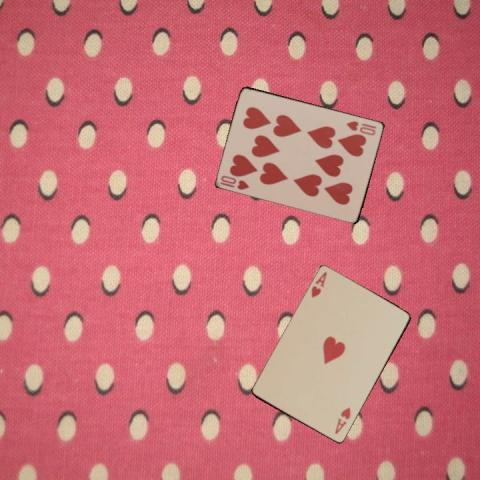10h: (343, 118, 378, 137), (217, 172, 251, 191)
Ah: (308, 269, 329, 299), (332, 405, 352, 436)
